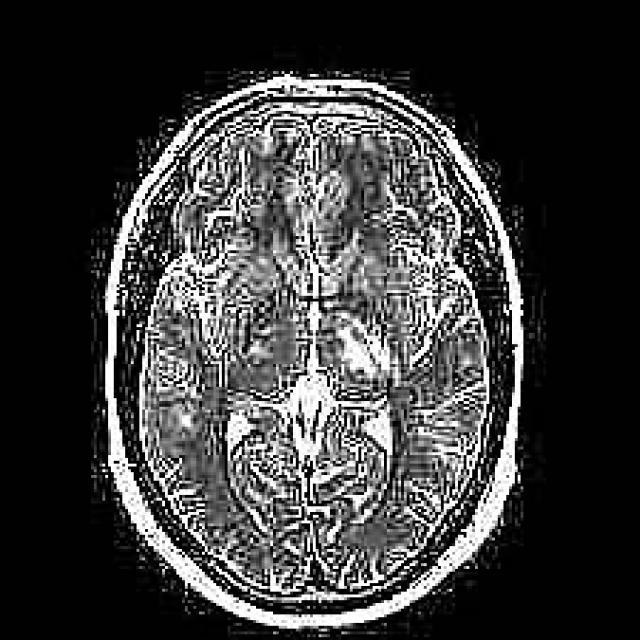notumor: (97, 77, 521, 634)
